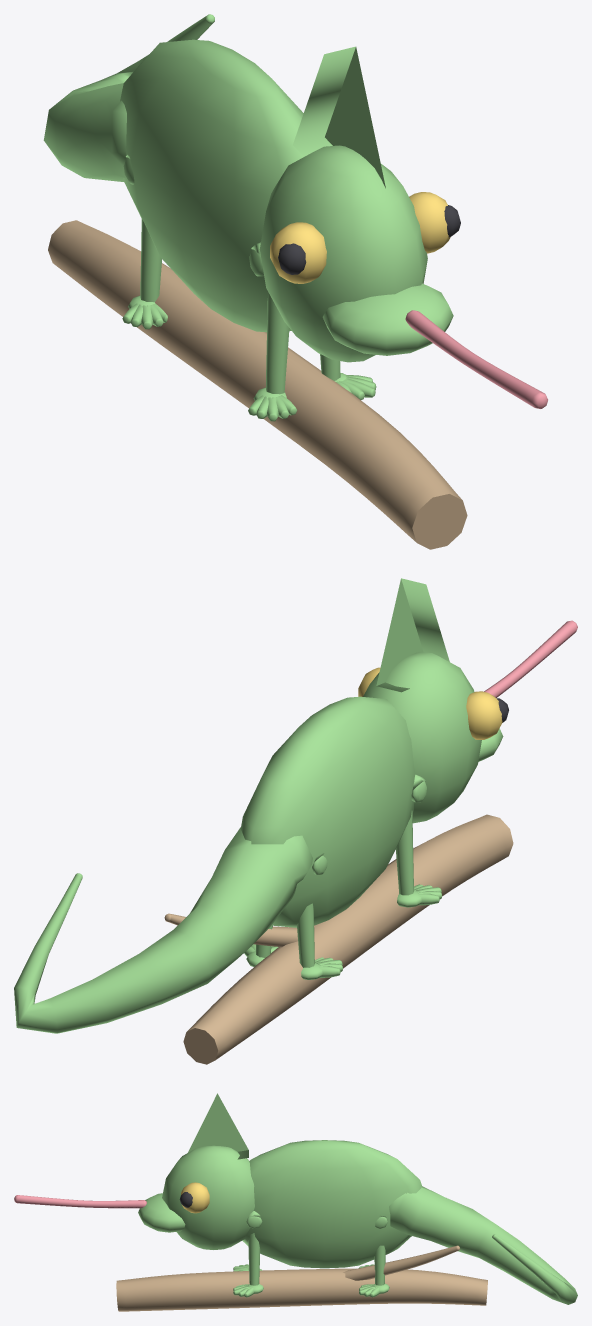
The model's file is reptiles-amphibians-and-minibeasts-chameleon-tongue-ou-9b0ced38__22435.glb.
The picture shows the model from 3 angles, top to bottom: view 1: azimuth 30°, elevation 25°; view 2: azimuth 150°, elevation 25°; view 3: azimuth 270°, elevation 25°; orthographic projection. The views are drawn at different scales.
Visible parts, largest first — view 1: chameleon-tongue-out; view 2: chameleon-tongue-out; view 3: chameleon-tongue-out.
Boxes of the visible parts, x1,y1,x2,y2 form: chameleon-tongue-out: (43,14,547,549); chameleon-tongue-out: (14,578,577,1064); chameleon-tongue-out: (14,1093,577,1311).
Size of the model in its own units: 0.1559 by 0.2497 by 0.6.
